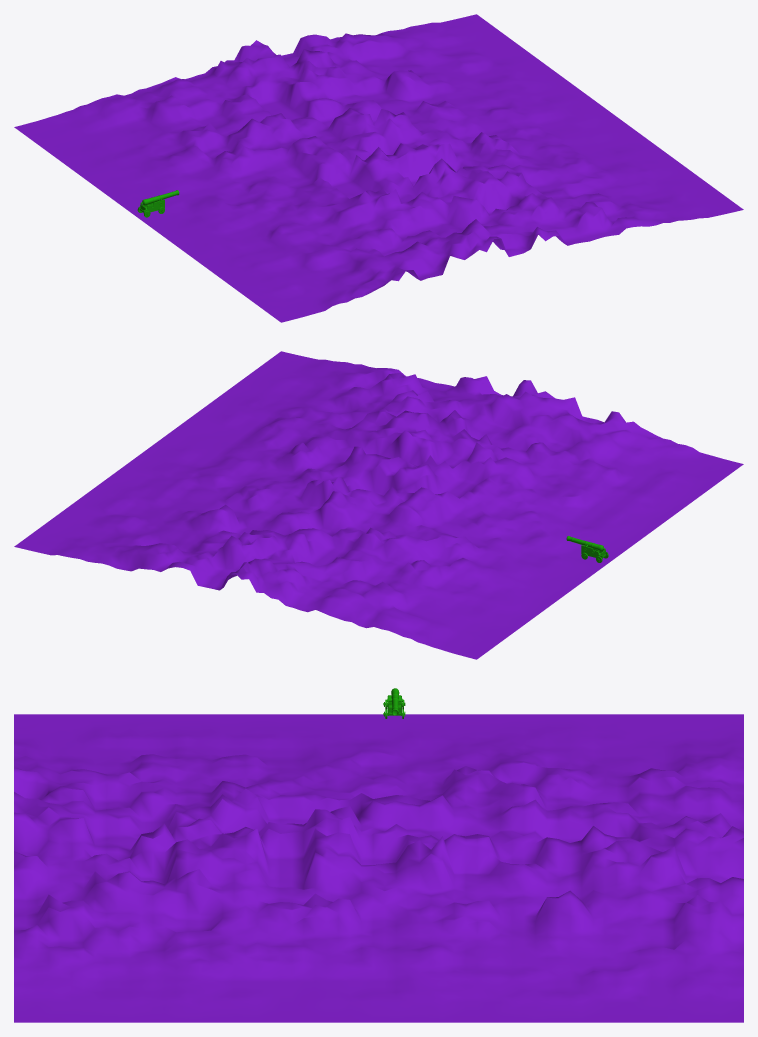
Rendered from floor.obj.
3 views of the same model, one above another, from view 1: azimuth 30°, elevation 25°; view 2: azimuth 150°, elevation 25°; view 3: azimuth 270°, elevation 25° (orthographic). The views are drawn at different scales.
Visible parts, largest first — view 1: Landscape, cannon_full.001_cannon_full.001_APS_cannon.001; view 2: Landscape; view 3: Landscape.
Part boxes in pixels (x1,y1,x2,y2): Landscape: (14,14,743,322); cannon_full.001_cannon_full.001_APS_cannon.001: (137,190,179,217); Landscape: (14,351,743,659); Landscape: (14,714,743,1022).
Size of the model in its own units: 16.03 by 1.26 by 16.
